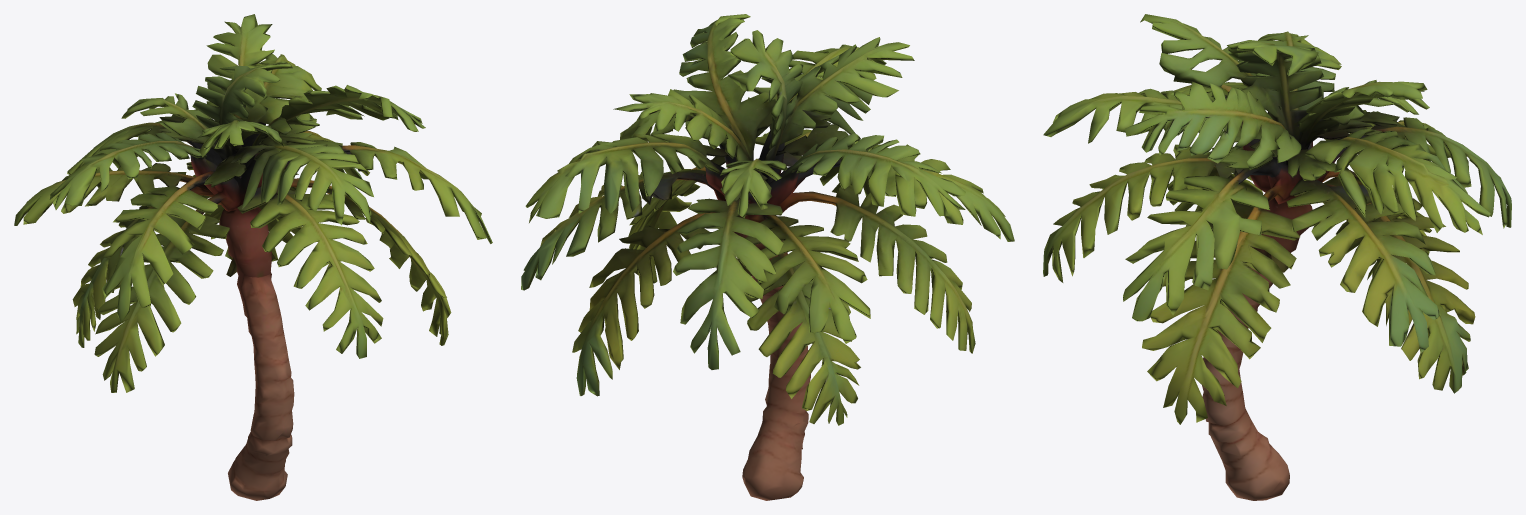
The model's file is palm-tree.glb.
The picture shows the model from 3 angles, left to right: view 1: azimuth 30°, elevation 25°; view 2: azimuth 150°, elevation 25°; view 3: azimuth 270°, elevation 25°; orthographic projection. The views are drawn at different scales.
Parts seen in each view (by area): view 1: tripo_node_80247025-d990-4319-b3aa-6098ab1287ce; view 2: tripo_node_80247025-d990-4319-b3aa-6098ab1287ce; view 3: tripo_node_80247025-d990-4319-b3aa-6098ab1287ce.
Part boxes in pixels (box(x1,y1,x2,y2)): tripo_node_80247025-d990-4319-b3aa-6098ab1287ce: box(14, 14, 492, 500); tripo_node_80247025-d990-4319-b3aa-6098ab1287ce: box(521, 14, 1014, 500); tripo_node_80247025-d990-4319-b3aa-6098ab1287ce: box(1043, 14, 1511, 500).
Size of the model in its own units: 0.9205 by 1 by 0.9259.
Materials: 1 (1 with a texture image).
